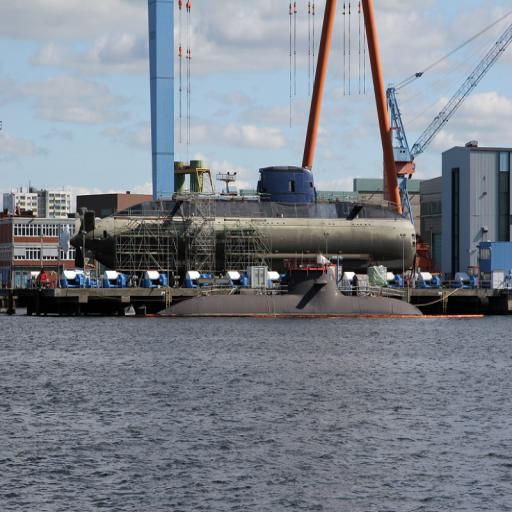submarine: (69, 167, 421, 265), (127, 269, 429, 315)
